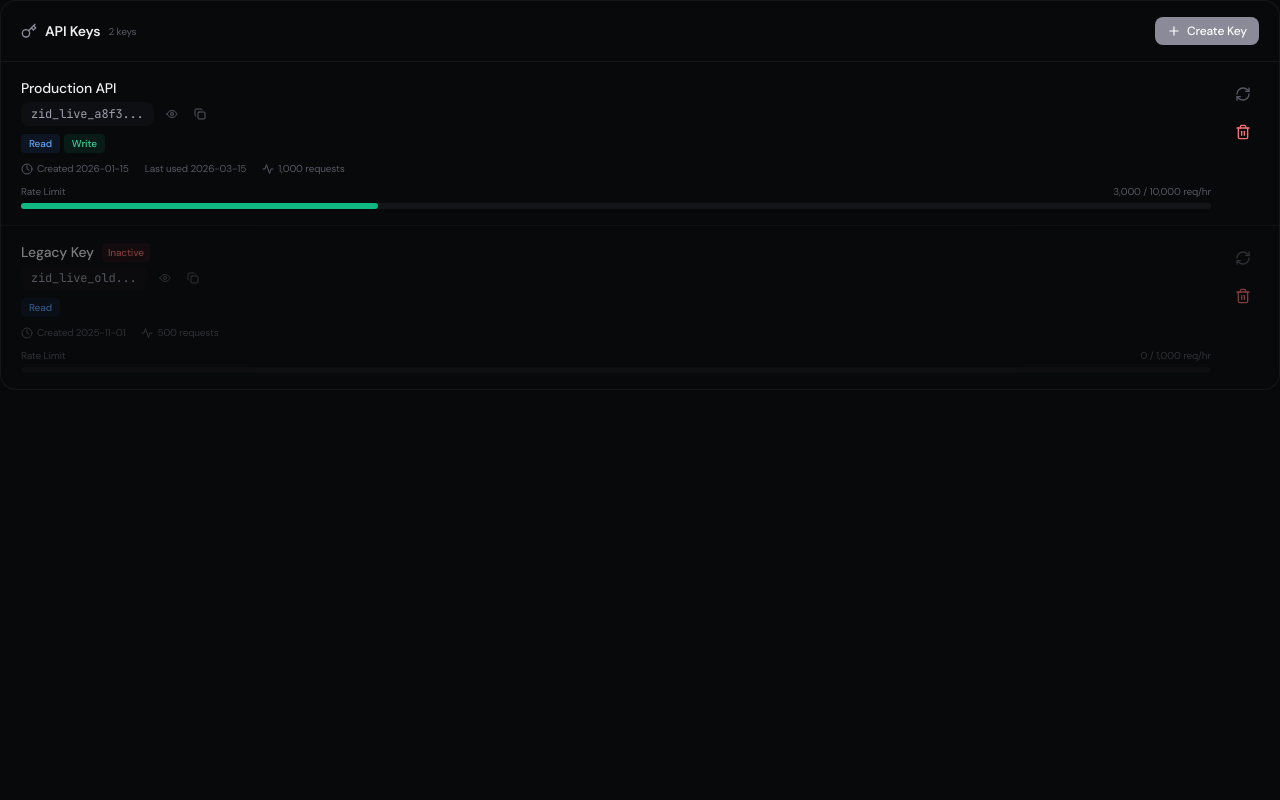
Test case: APIKeyManager › opens rotate confirmation modal
Click the button named "Rotate key" in the row of "zid_live_a8f3..." at (1243, 94), box [1227,78,1259,110]
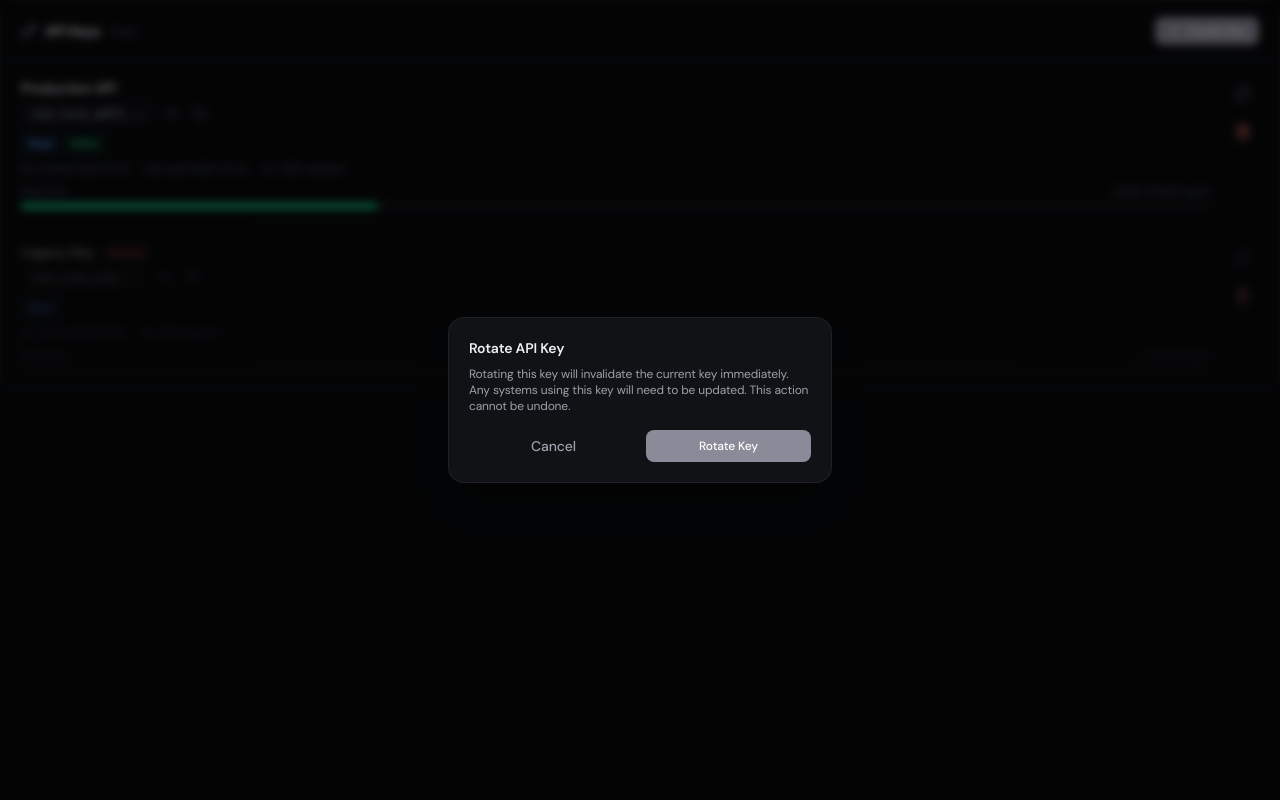
Expected: the heading "Rotate API Key" is shown, [469,339,564,357]
Expected: the button "Rotate Key" is shown, [646,430,811,462]
